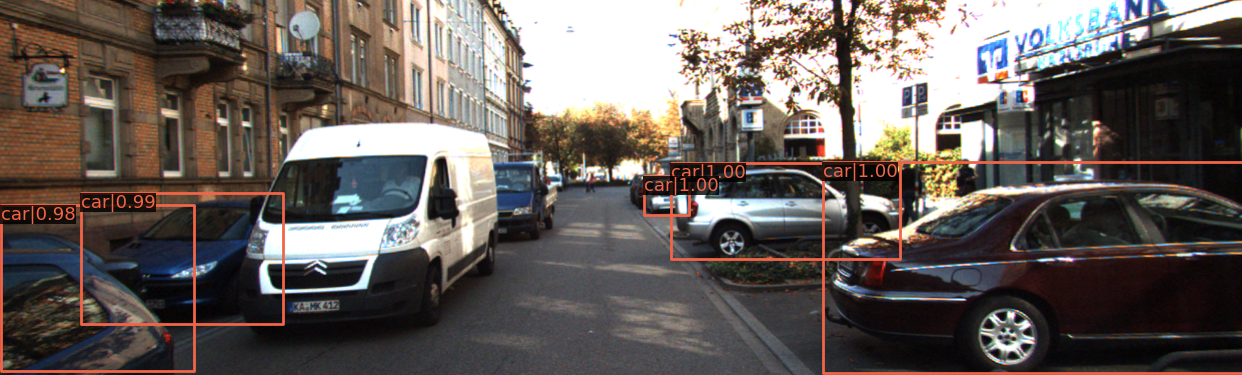car: (818, 166, 1242, 375), (1, 223, 212, 375), (86, 196, 325, 327), (1, 218, 155, 375), (672, 166, 903, 260), (645, 178, 690, 217), (631, 175, 671, 211), (546, 175, 564, 194)
person: (585, 173, 591, 195), (591, 174, 597, 195)
